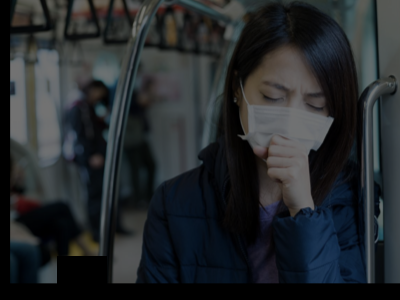with_mask: (240, 80, 330, 165)
